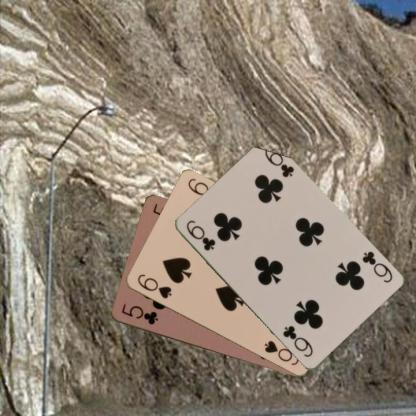5c: (118, 301, 160, 326)
6c: (359, 248, 393, 284), (182, 217, 216, 252)
6s: (134, 272, 173, 300)
